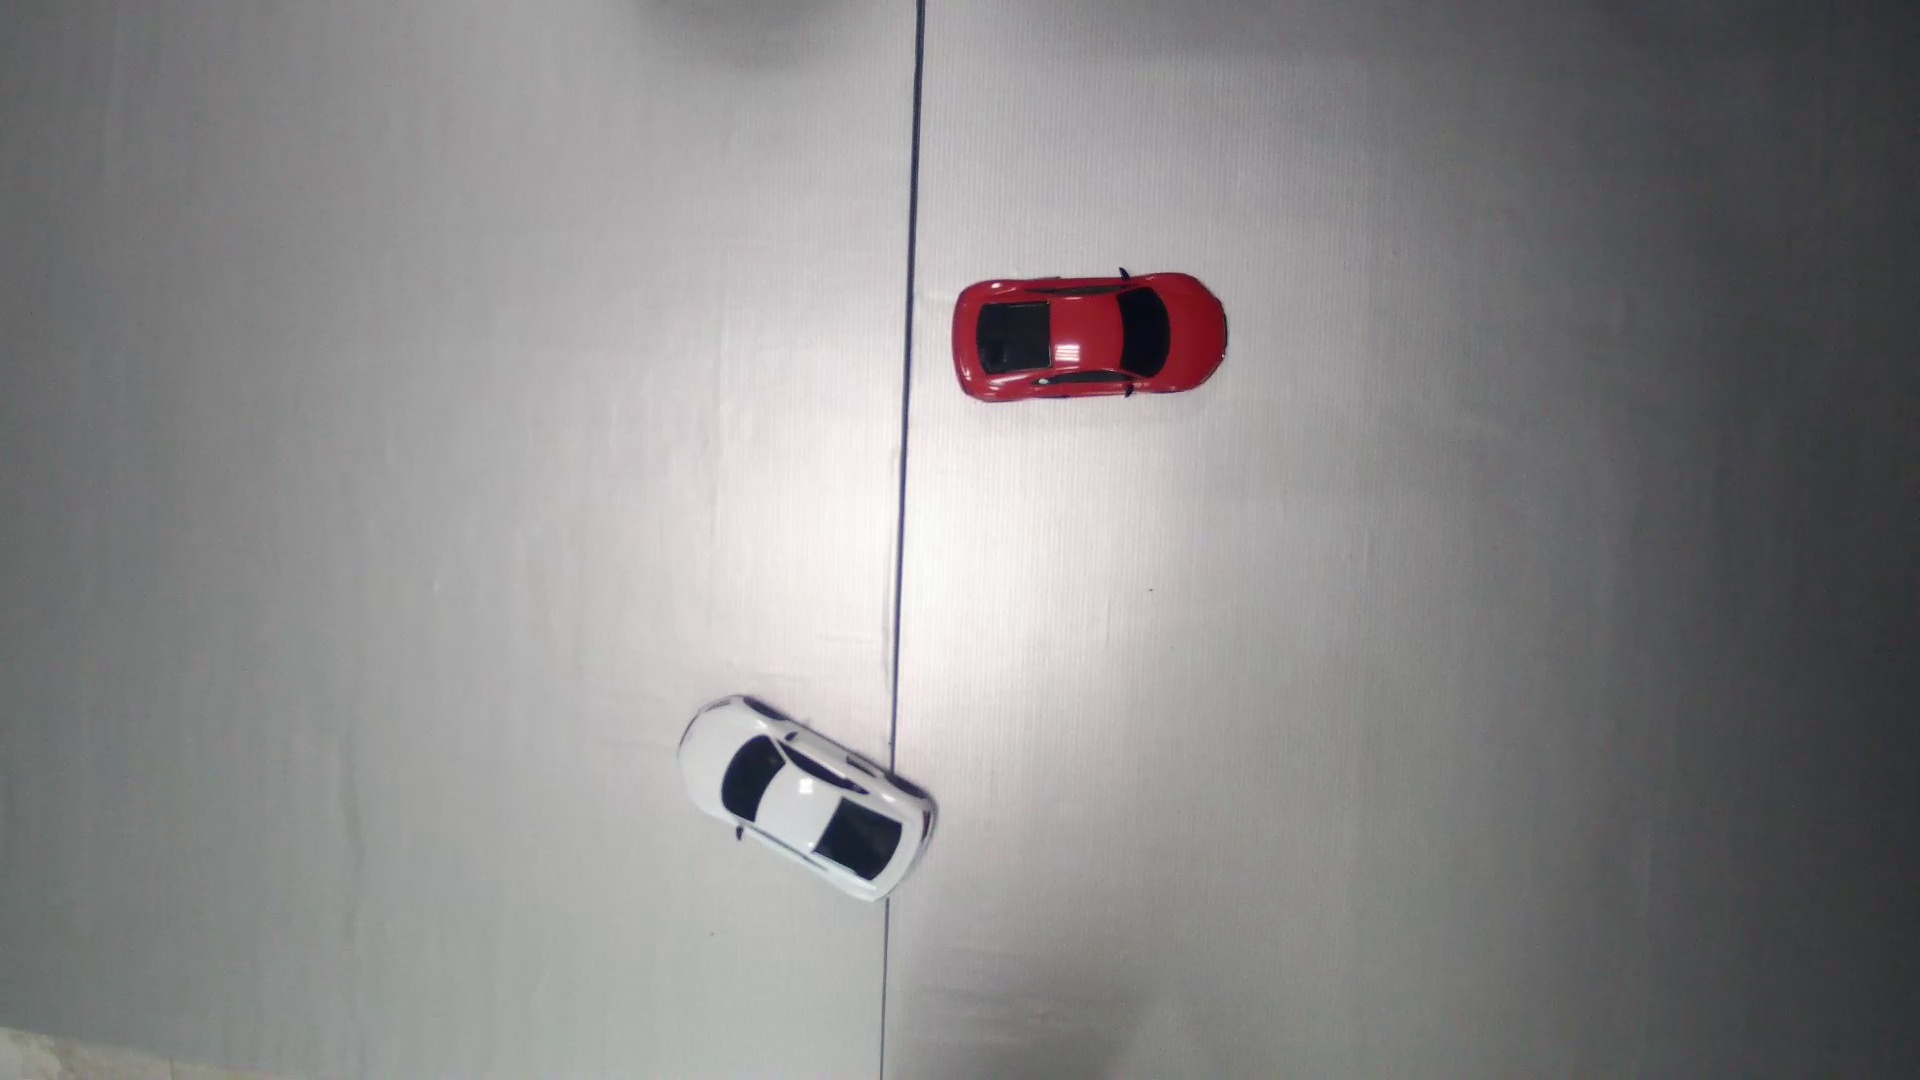remote_car: (671, 696, 936, 906), (951, 269, 1228, 404)
